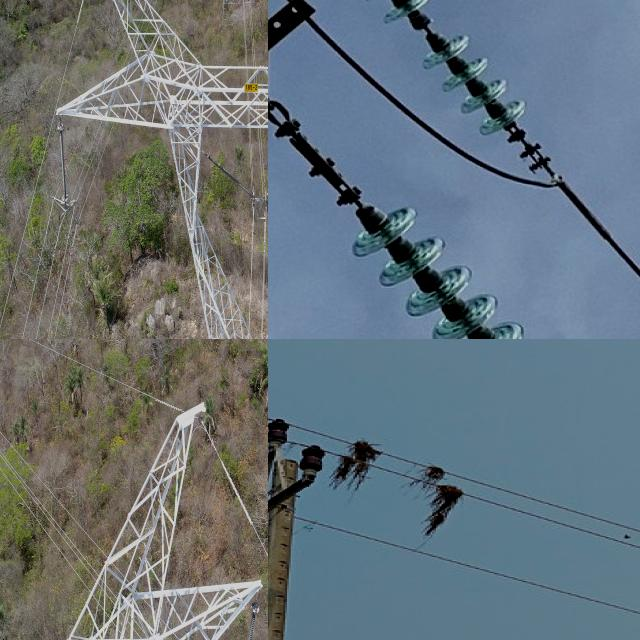杆塔: (55, 0, 268, 339), (0, 396, 265, 640)
植被遮挡: (407, 465, 466, 538), (331, 436, 386, 490)
正常电缆: (554, 178, 640, 292)
正常绝缘子: (353, 0, 588, 204), (306, 160, 542, 339), (206, 151, 257, 201), (229, 604, 268, 640), (57, 118, 71, 208)
绝缘子破损: (408, 18, 450, 41)
